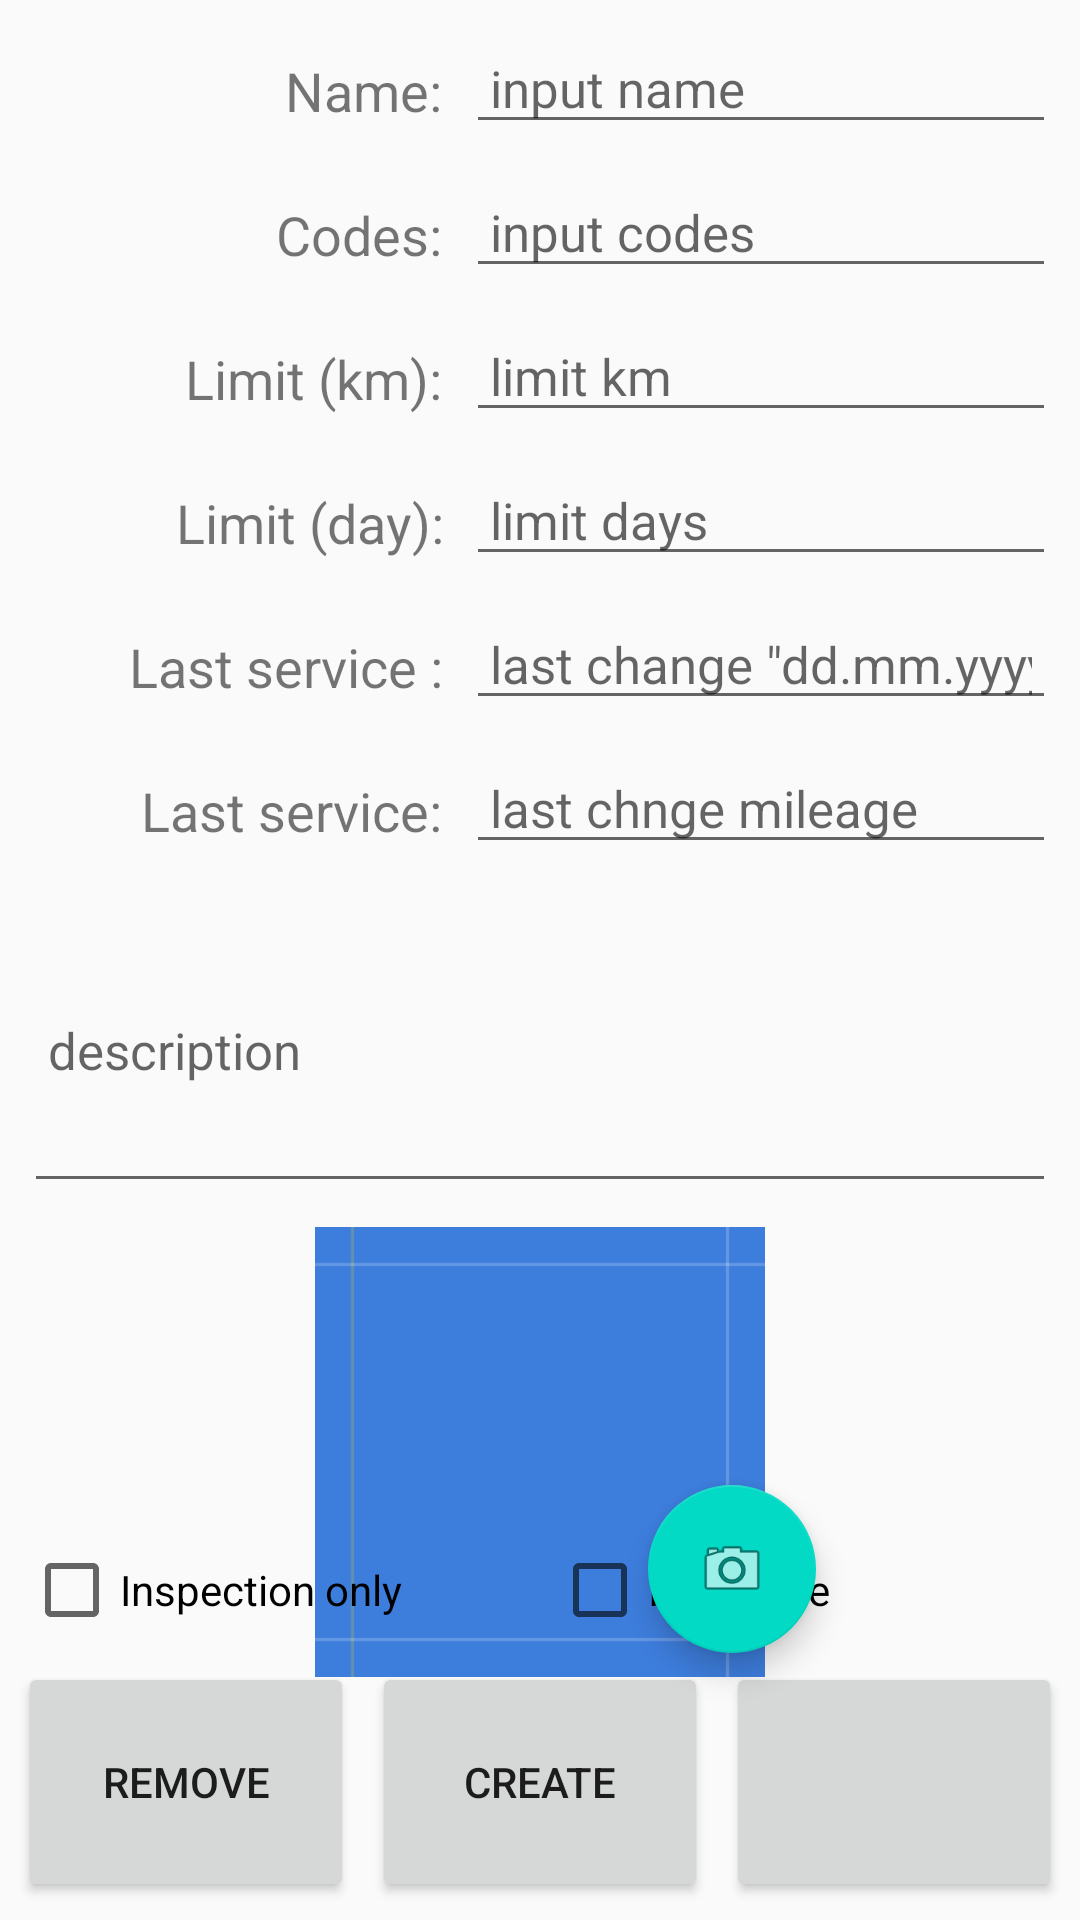

Where to tap for icons on this 1080×1920 app screen, as (x=x, y=y):
camera: (x=732, y=1569)
